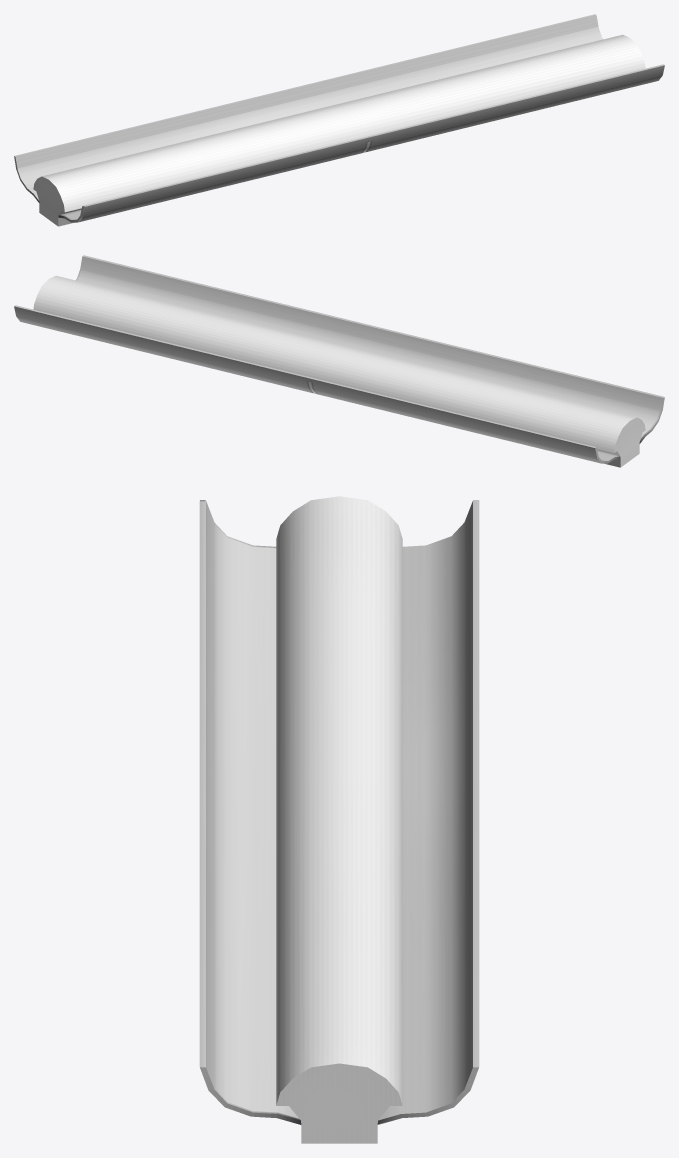
File: Light.FBX
3 renders of one model, top to bottom at view 1: azimuth 30°, elevation 25°; view 2: azimuth 150°, elevation 25°; view 3: azimuth 270°, elevation 25°, orthographic. The views are drawn at different scales.
Parts seen in each view (by area): view 1: Light; view 2: Light; view 3: Light.
Part boxes in pixels (x1=…): Light: x1=14, y1=14, x2=664, y2=226; Light: x1=14, y1=255, x2=664, y2=467; Light: x1=199, y1=496, x2=479, y2=1143.
Bounding box in the file's own units: 407 × 26.82 × 84.72.
Materials: 1 (1 with a texture image).
